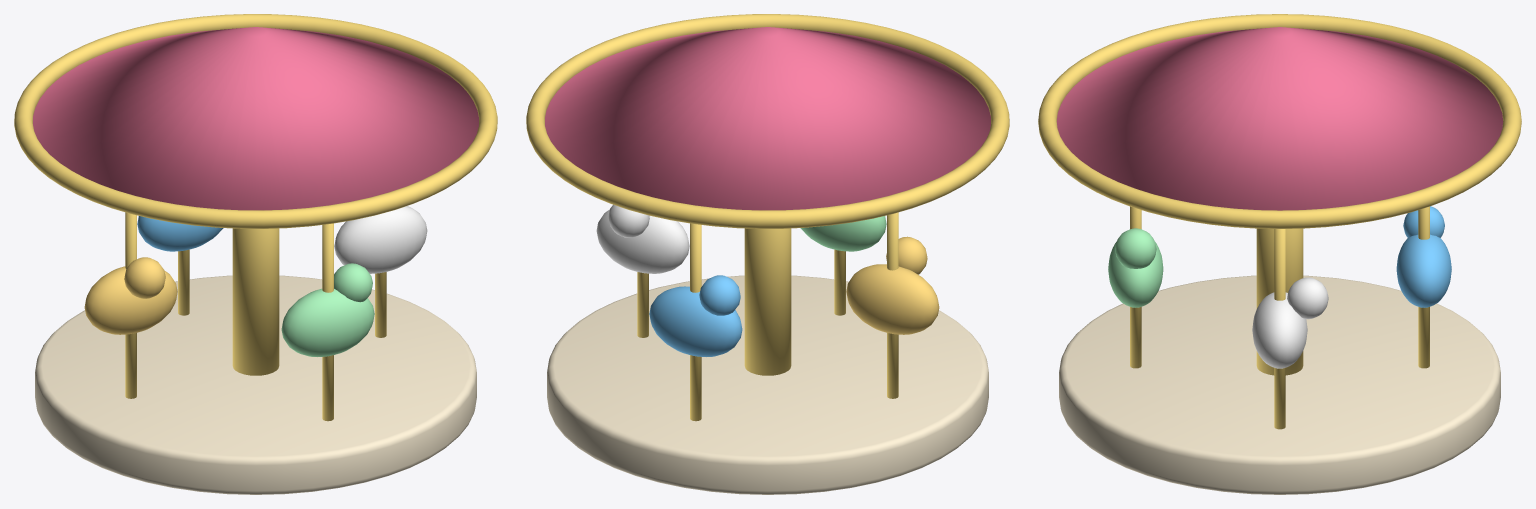
The model's file is carousel.glb.
3 renders of one model, left to right at view 1: azimuth 30°, elevation 25°; view 2: azimuth 150°, elevation 25°; view 3: azimuth 270°, elevation 25°, orthographic.
Parts seen in each view (by area): view 1: Cylinder, Cone, Torus, Cylinder.001, Sphere.006, Sphere, Sphere.004, Sphere.002, Cylinder.005, Cylinder.004, Sphere.005, Sphere.007 (+2 smaller); view 2: Cone, Cylinder, Torus, Cylinder.001, Sphere.004, Sphere.002, Sphere, Sphere.006, Cylinder.003, Cylinder.004, Sphere.003, Sphere.001 (+3 smaller); view 3: Cylinder, Cone, Torus, Sphere.002, Sphere, Cylinder.001, Sphere.006, Cylinder.002, Sphere.007, Sphere.001, Cylinder.003, Cylinder.005 (+1 smaller).
Part boxes in pixels (box(x1,y1,x2,y2)): Cylinder: box(35, 275, 476, 494); Cone: box(33, 27, 478, 210); Torus: box(14, 14, 497, 228); Cylinder.001: box(232, 228, 279, 375); Sphere.006: box(281, 288, 374, 356); Sphere: box(334, 206, 427, 273); Sphere.004: box(84, 266, 177, 334); Sphere.002: box(137, 216, 223, 251); Cylinder.005: box(322, 223, 333, 421); Cylinder.004: box(125, 212, 136, 398); Sphere.005: box(124, 257, 165, 298); Sphere.007: box(334, 263, 372, 302); Cone: box(545, 27, 990, 210); Cylinder: box(547, 275, 988, 494); Torus: box(526, 14, 1009, 228); Cylinder.001: box(744, 228, 791, 375); Sphere.004: box(846, 264, 939, 334); Sphere.002: box(649, 286, 742, 356); Sphere: box(596, 209, 689, 273); Sphere.006: box(800, 216, 886, 251); Cylinder.003: box(690, 223, 701, 421); Cylinder.004: box(887, 212, 898, 398); Sphere.003: box(699, 275, 740, 315); Sphere.001: box(608, 204, 649, 237); Cylinder: box(1059, 275, 1500, 494); Cone: box(1056, 27, 1503, 210); Torus: box(1038, 14, 1521, 228); Sphere.002: box(1396, 234, 1451, 307); Sphere: box(1252, 292, 1307, 368); Cylinder.001: box(1256, 228, 1303, 375); Sphere.006: box(1108, 242, 1163, 307); Cylinder.002: box(1274, 229, 1285, 429); Sphere.007: box(1115, 228, 1156, 268); Sphere.001: box(1287, 277, 1328, 319); Cylinder.003: box(1418, 206, 1429, 368); Cylinder.005: box(1130, 206, 1141, 368).
Size of the model in its own units: 1.27 by 1.08 by 1.27.
